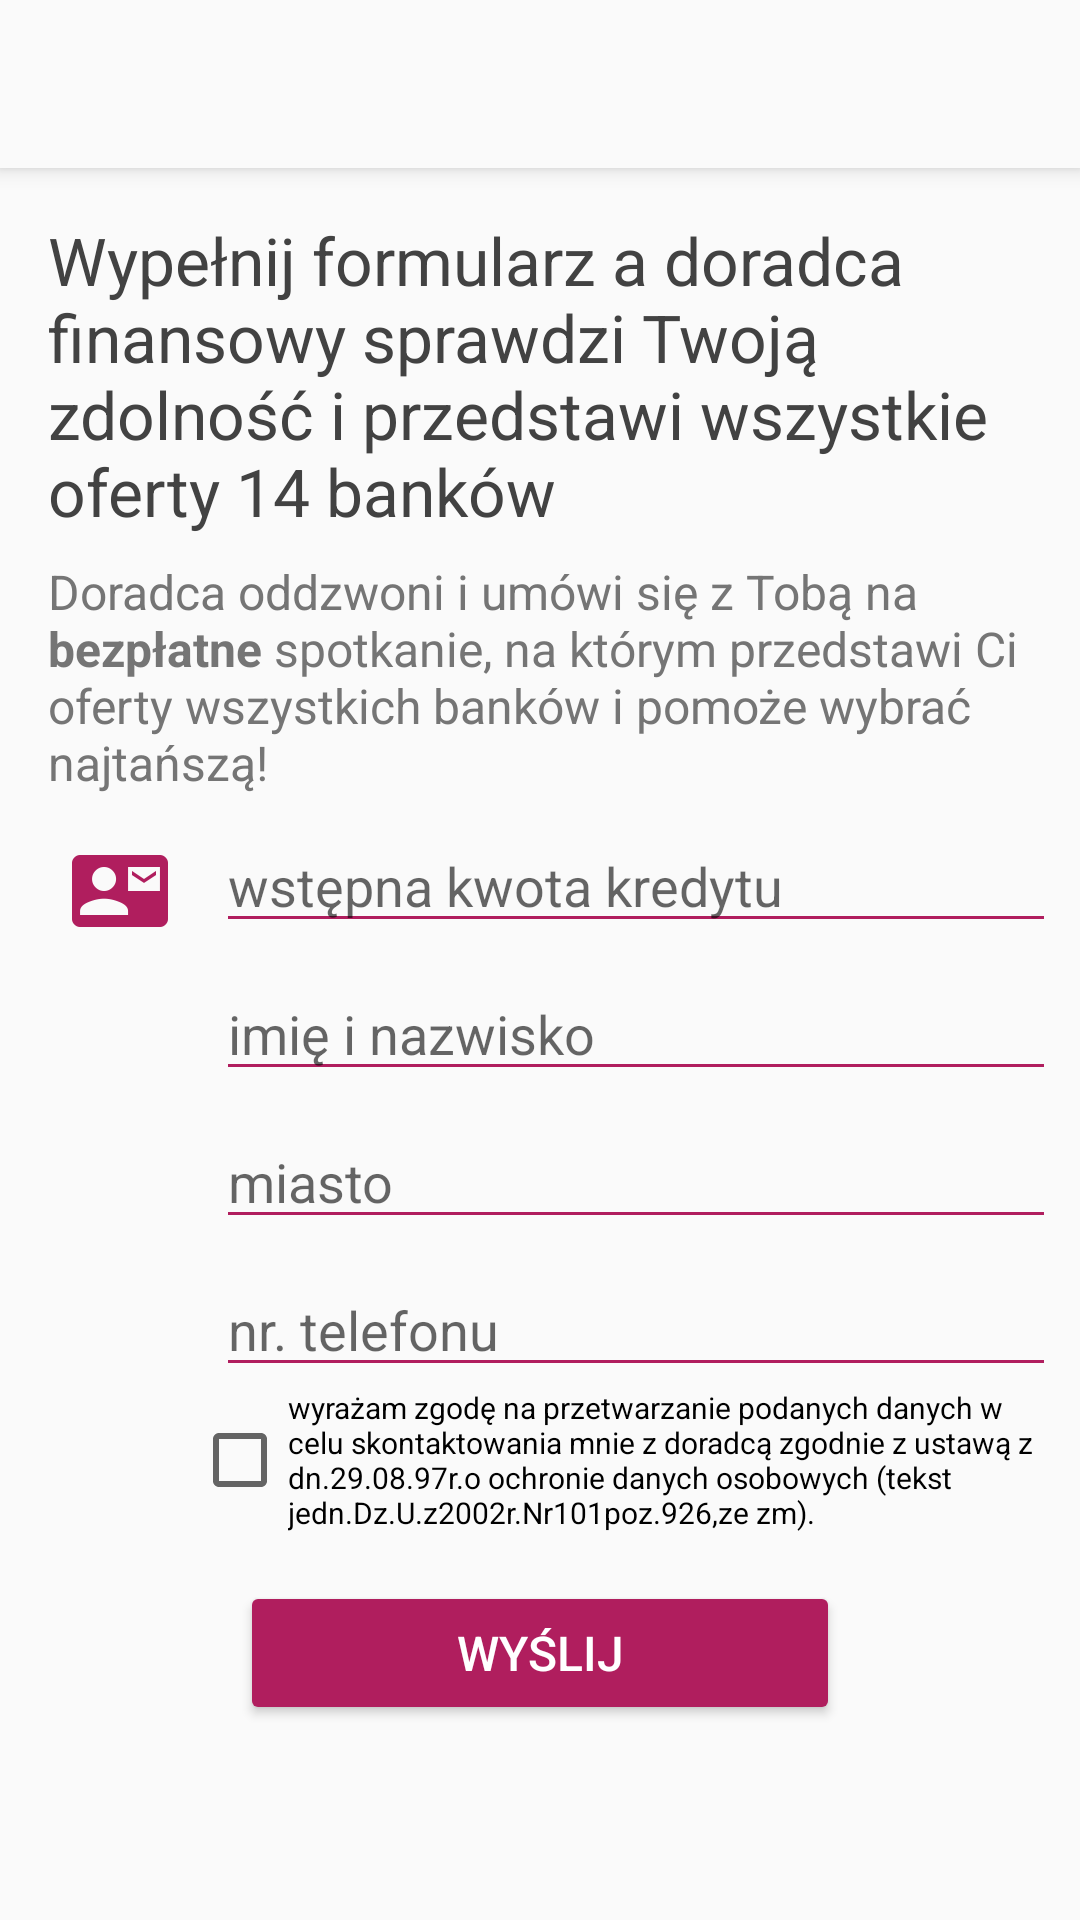

Where to tap for icons on this 1080w x 1920h app screen, as (x=x, y=y):
formularz: (x=120, y=891)
